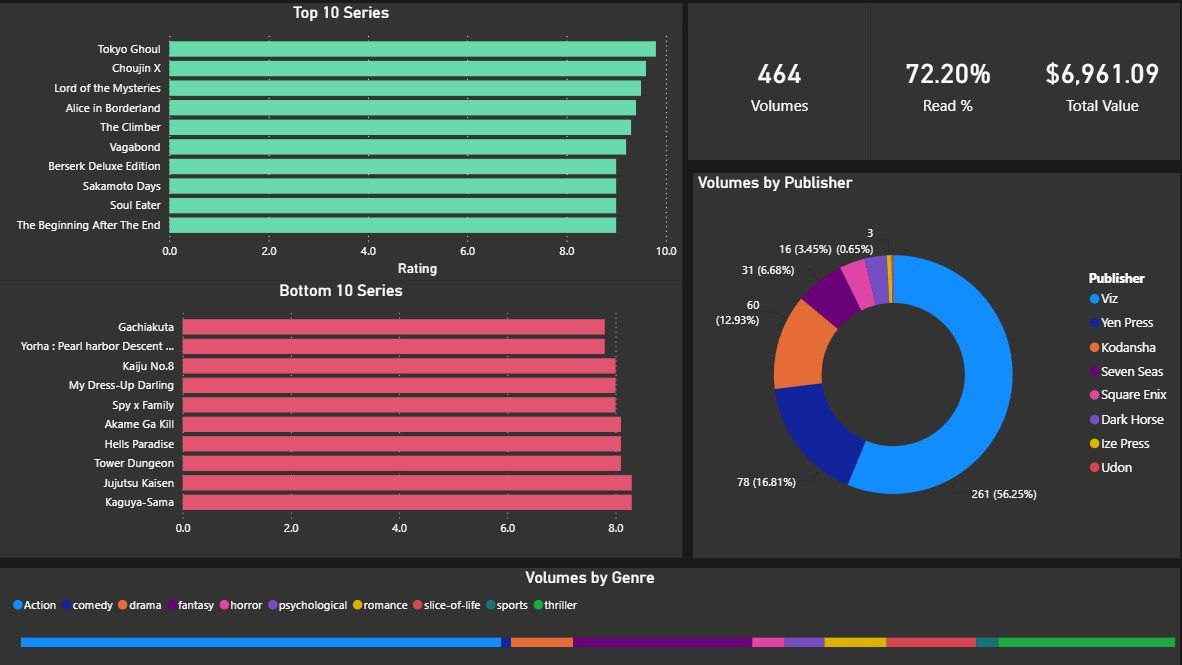

Layout of this report page (visuals, bound fields, positions):
{"tool":"powerbi","page":{"name":"Page 1","canvas":[1280,720],"ordinal":0},"visuals":[{"type":"card","fields":{"Values":["public series.Total MSRP"]},"box":[1095,9.5,162.9,165],"z":0},{"type":"card","fields":{"Values":["Sum(public series.owned_volumes)"]},"box":[740.9,9.5,192.3,165],"z":1000},{"type":"barChart","title":"Top 10 Series","fields":{"Y":["Sum(public series.rating)"],"Category":["public series.series_title"]},"box":[17.9,9.5,716.7,292.2],"z":2000},{"type":"barChart","title":"Bottom 10 Series","fields":{"Y":["Sum(public series.rating)"],"Category":["public series.series_title"]},"box":[17.9,301.6,716.7,291.1],"z":3000},{"type":"card","fields":{"Values":["public series.Read %"]},"box":[933.2,9.5,161.8,165],"z":4000},{"type":"donutChart","title":"Volumes by Publisher","fields":{"Category":["public series.publisher"],"Y":["Sum(public series.owned_volumes)"]},"box":[746.1,188.1,511.8,404.6],"z":5000},{"type":"hundredPercentStackedBarChart","title":"Volumes by Genre","fields":{"Series":["public series.genre"],"Y":["Sum(public series.owned_volumes)"]},"box":[17.9,603.2,1240.1,101.9],"z":6000}]}

Visuals, with their boxes in screenshot pixels (x1, y1, x2, y2), scaled from the page's 1280x720 canvas onto the 1182x665 screenshot:
card - public series.Total MSRP: l=1011, t=9, r=1162, b=161
card - Sum(public series.owned_volumes): l=684, t=9, r=862, b=161
"Top 10 Series" barChart: l=17, t=9, r=678, b=279
"Bottom 10 Series" barChart: l=17, t=279, r=678, b=547
card - public series.Read %: l=862, t=9, r=1011, b=161
"Volumes by Publisher" donutChart: l=689, t=174, r=1162, b=547
"Volumes by Genre" hundredPercentStackedBarChart: l=17, t=557, r=1162, b=651
